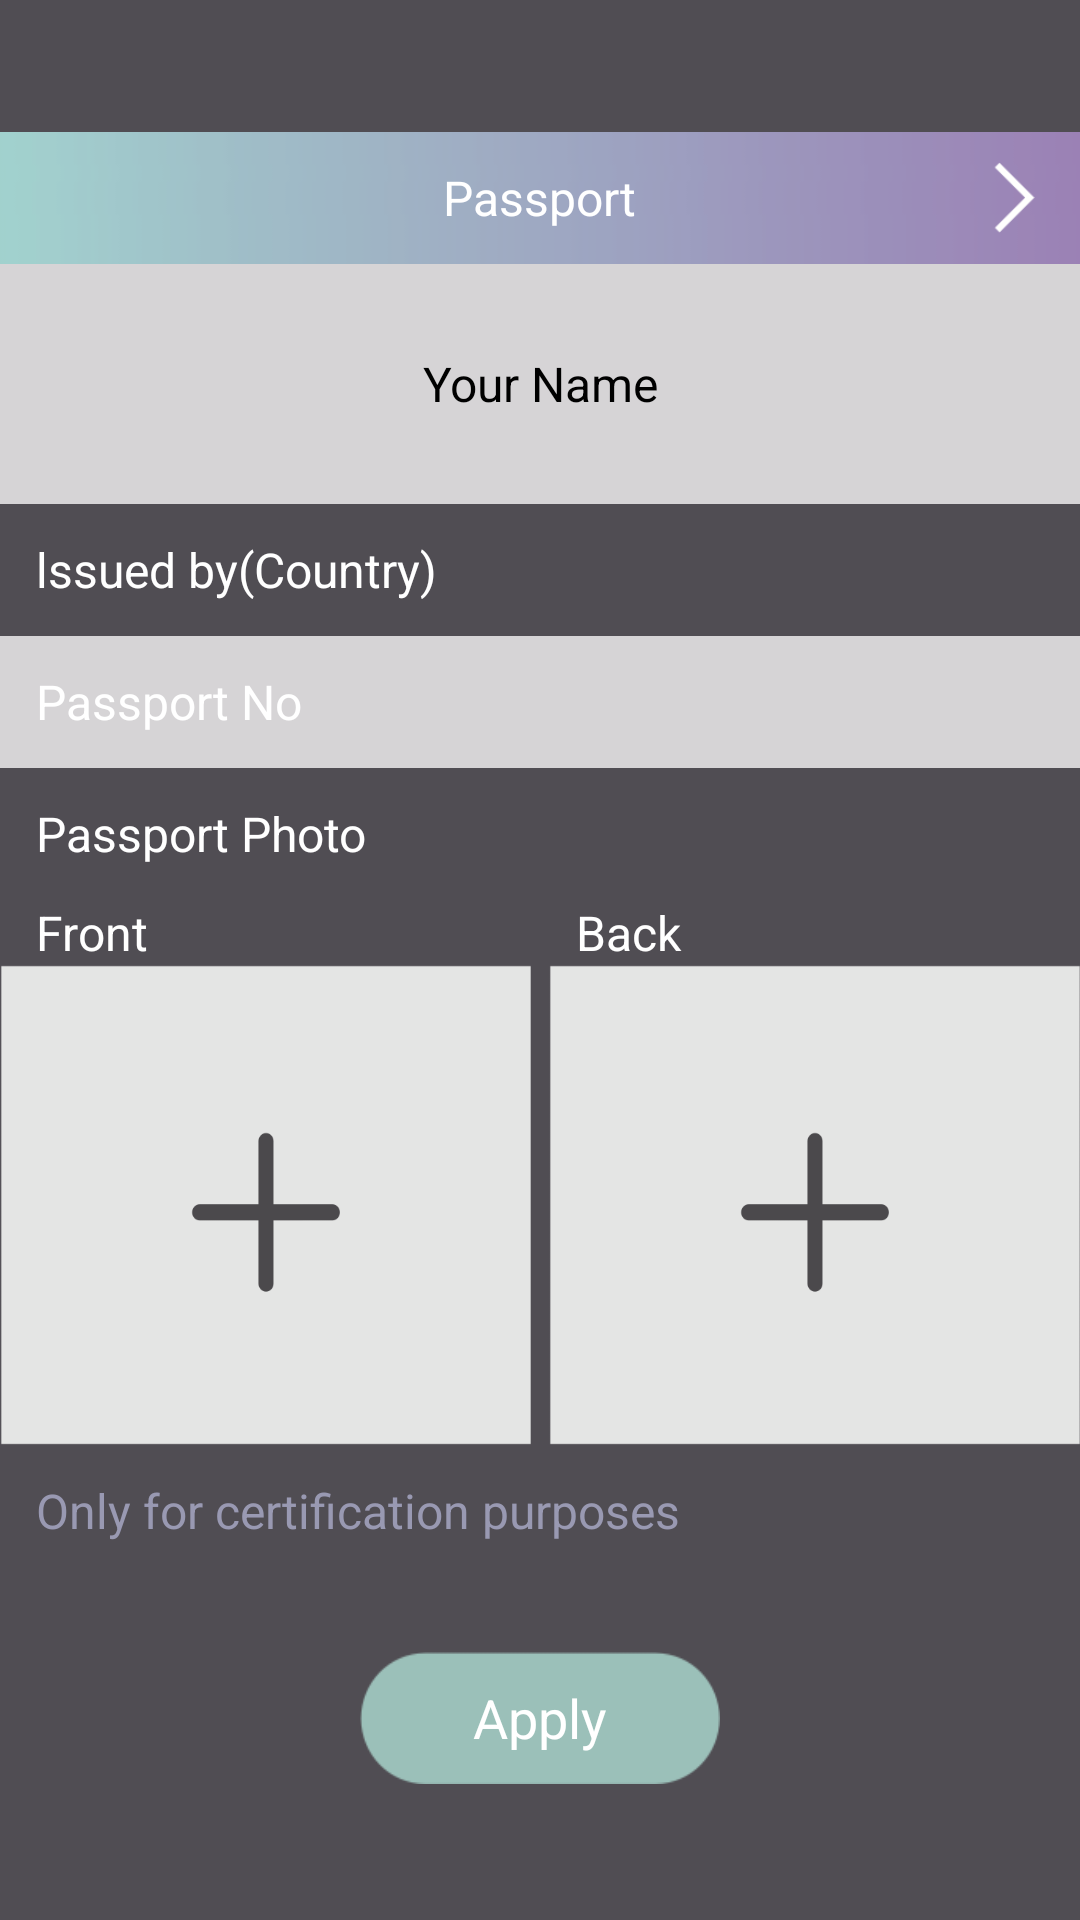

Icon click points for this 1080 x 1920 phone screenshot, format (x,y):
next: (1014,198)
